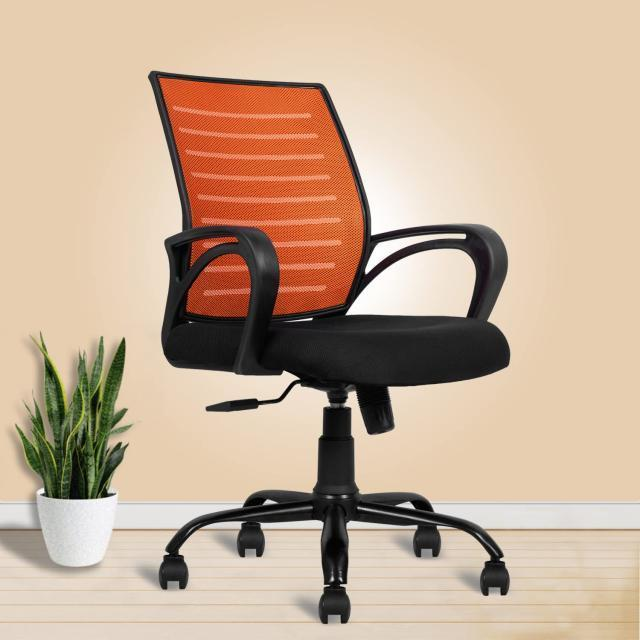chair: (123, 29, 546, 640)
